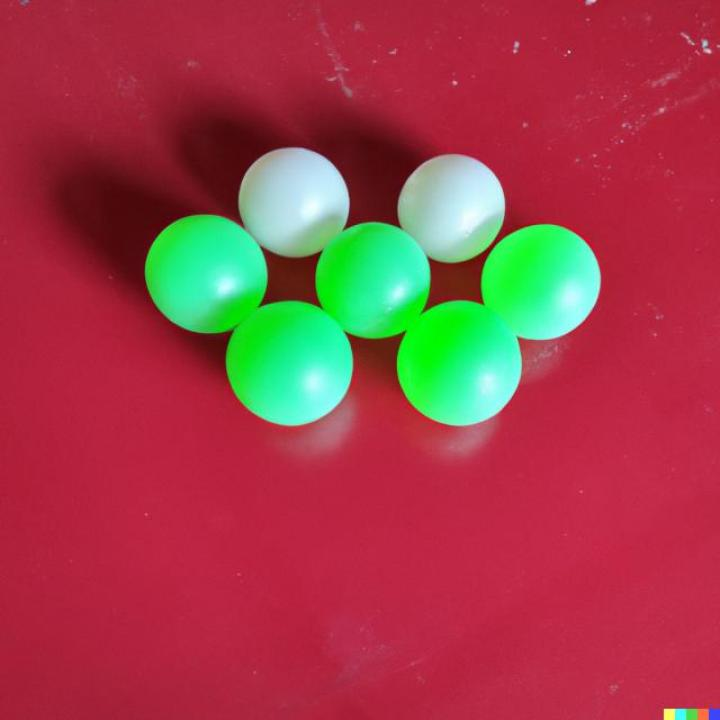white: (238, 146, 349, 258), (398, 154, 505, 264)
